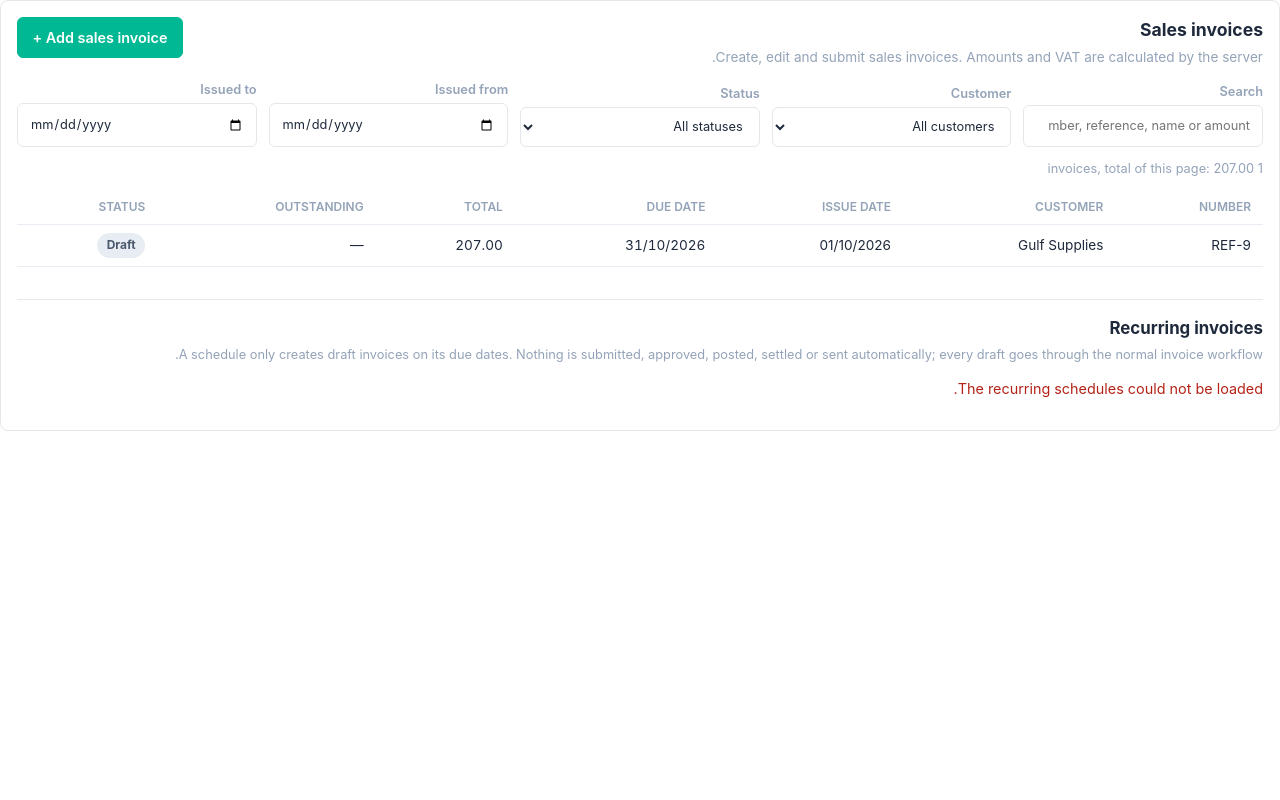
Test: Invoice details actions › offers no "More" menu without cancel or delete permission
The width and height of the screenshot is (1280, 800).
Click the text "REF-9" at [1189, 245], box [1115,225,1263,266]
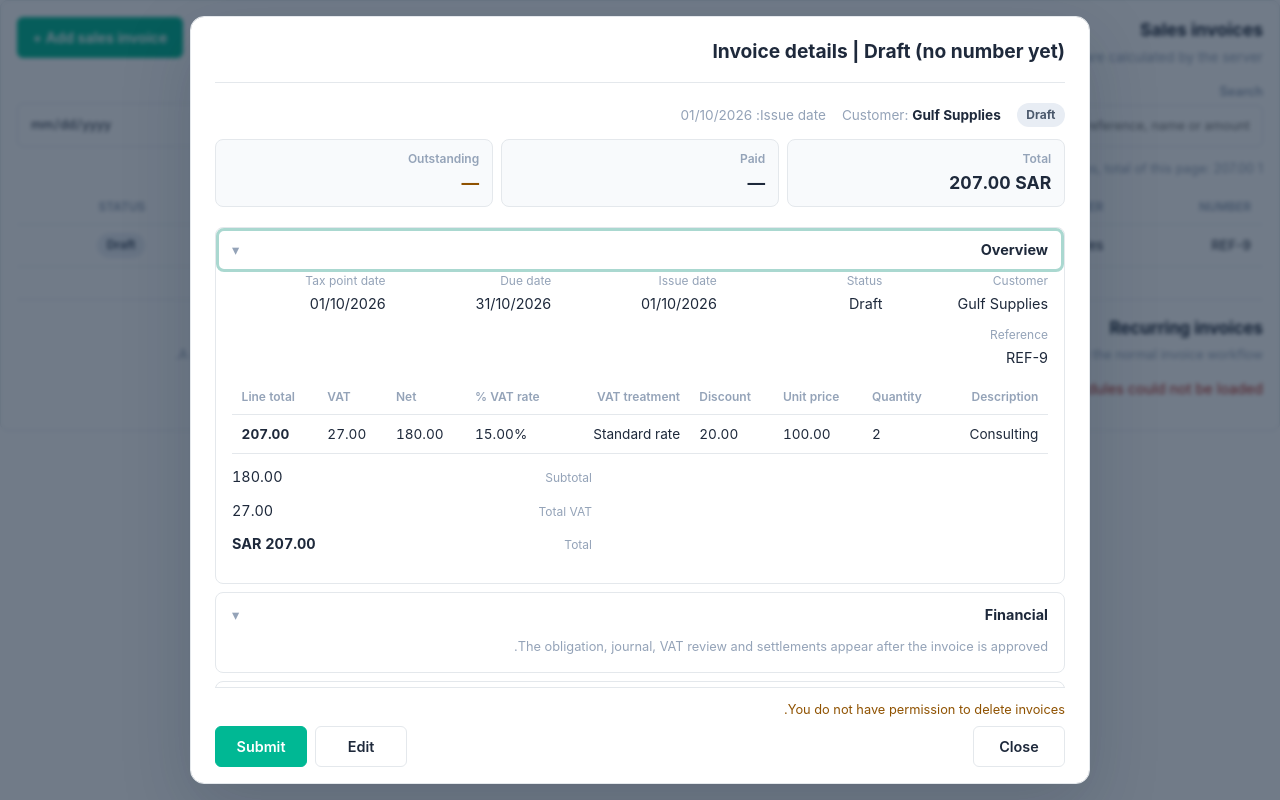
Now the button "Submit" is shown, box [215,726,307,767]
